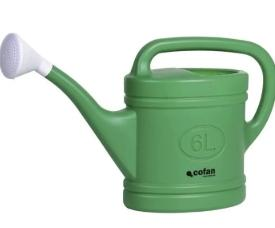ARROSOIR: (0, 29, 275, 219)
